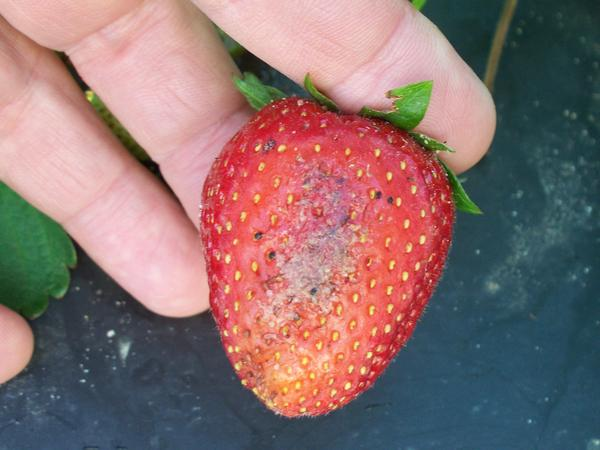damaged_strawberry: (197, 97, 457, 414)
